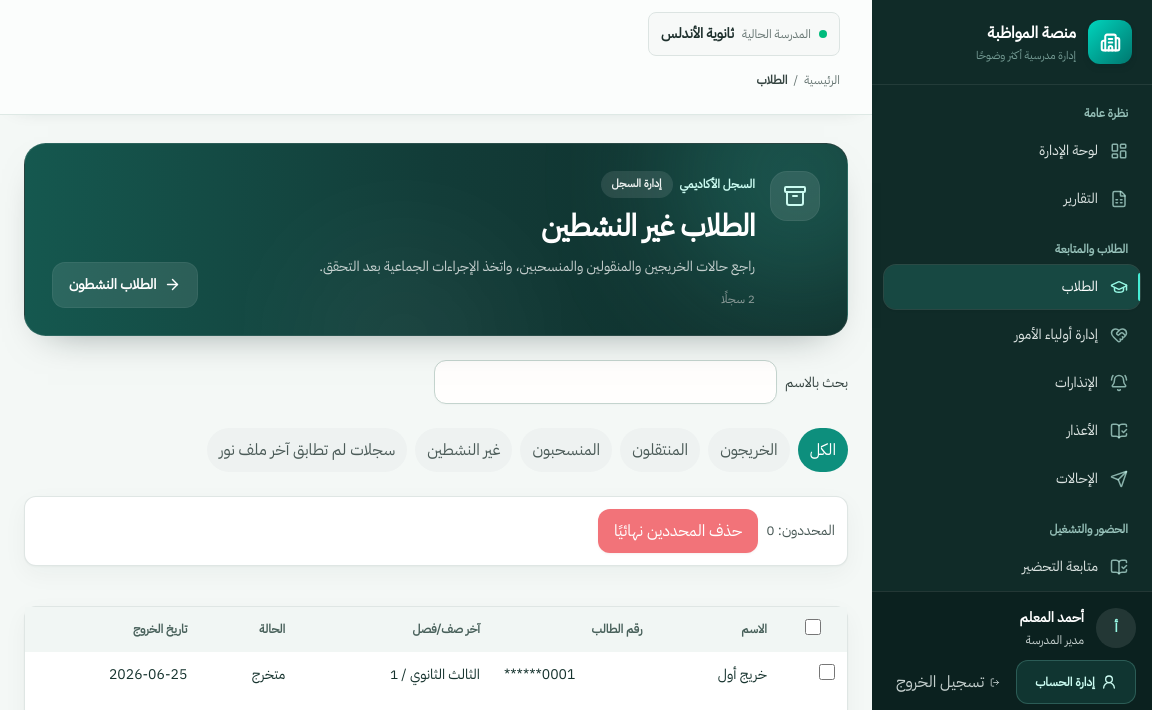
Test: InactiveStudentsPage › missing-from-noor filter offers classification actions
The width and height of the screenshot is (1152, 710).
Click the tab "سجلات لم تطابق آخر ملف نور": (307, 450) [207, 428, 407, 472]
(page scrolled)
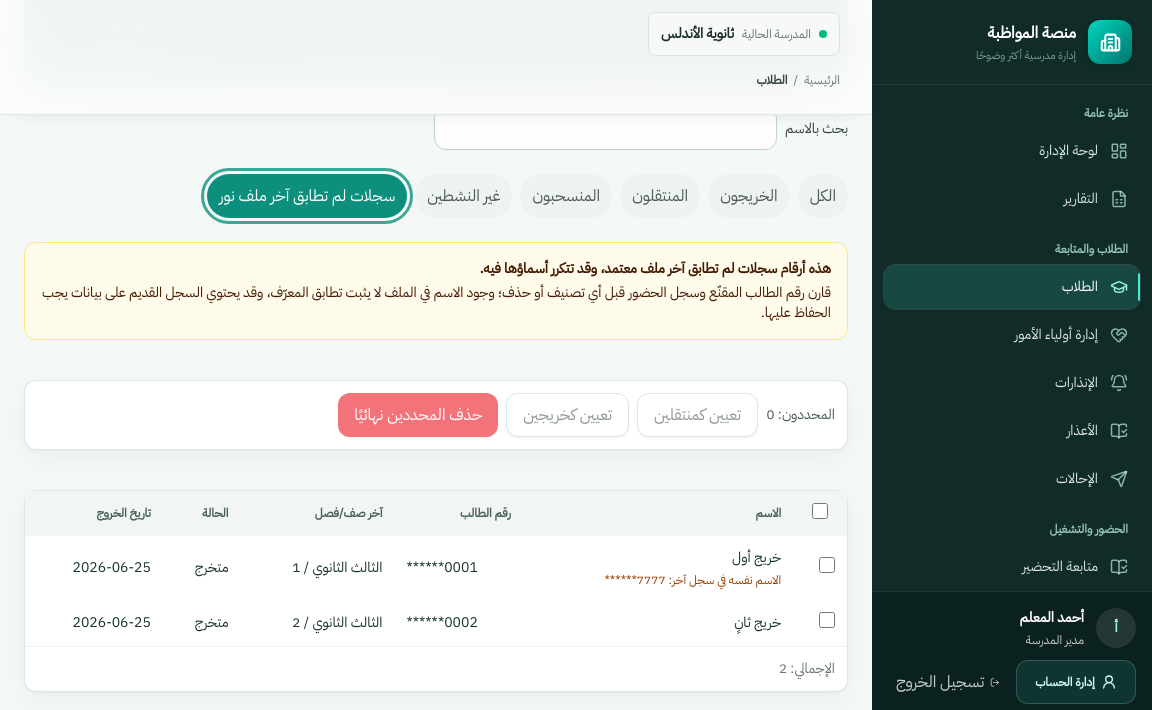
Expected: the button "حذف المحددين نهائيًا" is disabled, [338, 392, 498, 436]
Result: the button "تعيين كمنتقلين" is shown at [637, 392, 758, 436]
Result: the button "تعيين كخريجين" is shown at [506, 392, 629, 436]
Click the checkbox named "تحديد خريج أول ******0001": (827, 565) [819, 557, 835, 573]
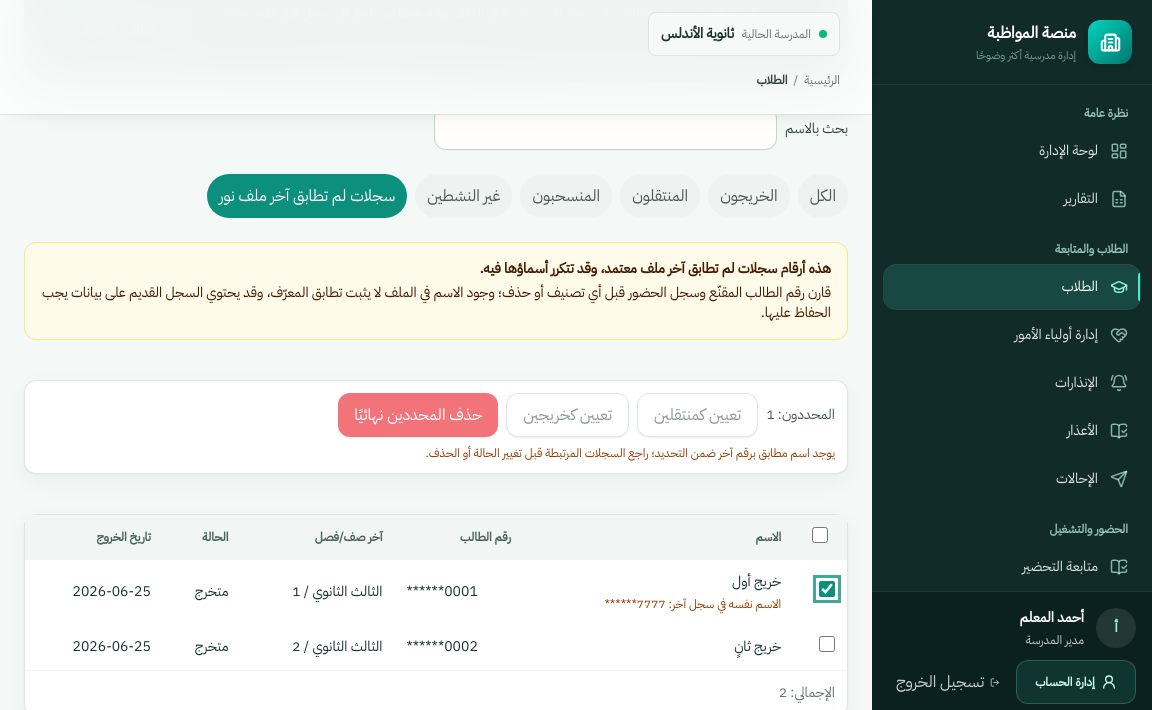
Expected: the button "حذف المحددين نهائيًا" is disabled, [338, 392, 498, 436]
Result: the text "يوجد اسم مطابق برقم آخر ضمن التحديد" is shown at [426, 444, 835, 462]
Click the checkbox named "تحديد خريج أول ******0001": (827, 589) [819, 581, 835, 597]
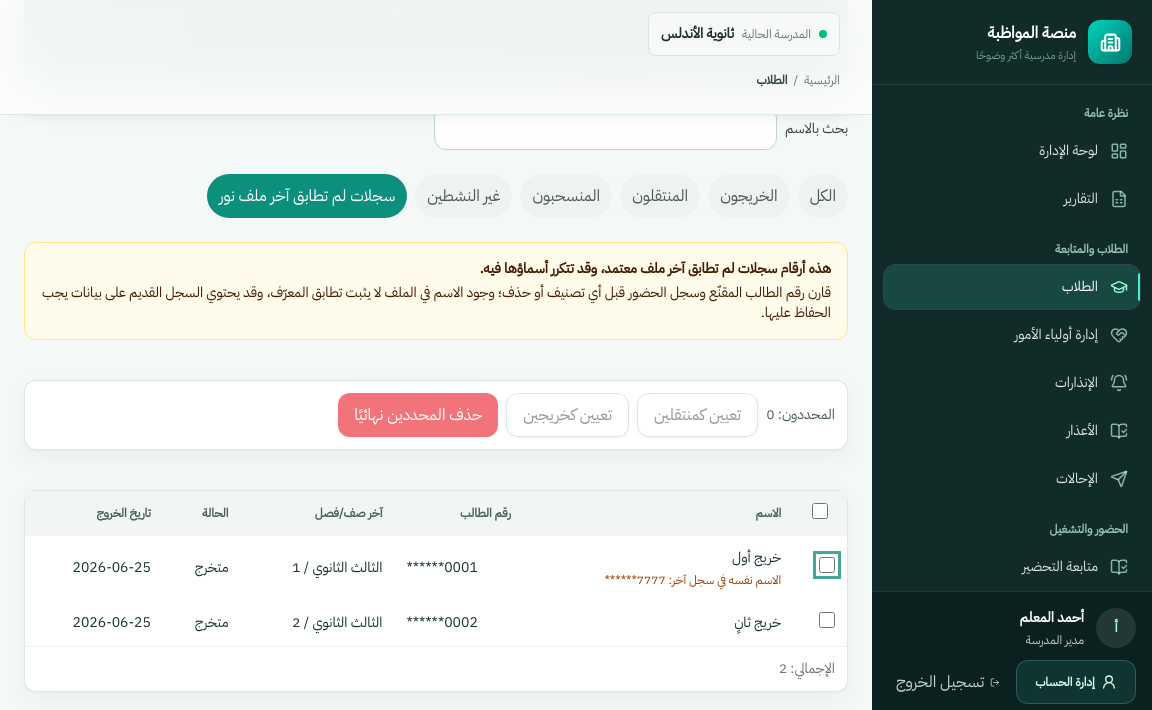
Click the checkbox named "تحديد خريج ثانٍ ******0002": (827, 620) [819, 612, 835, 628]
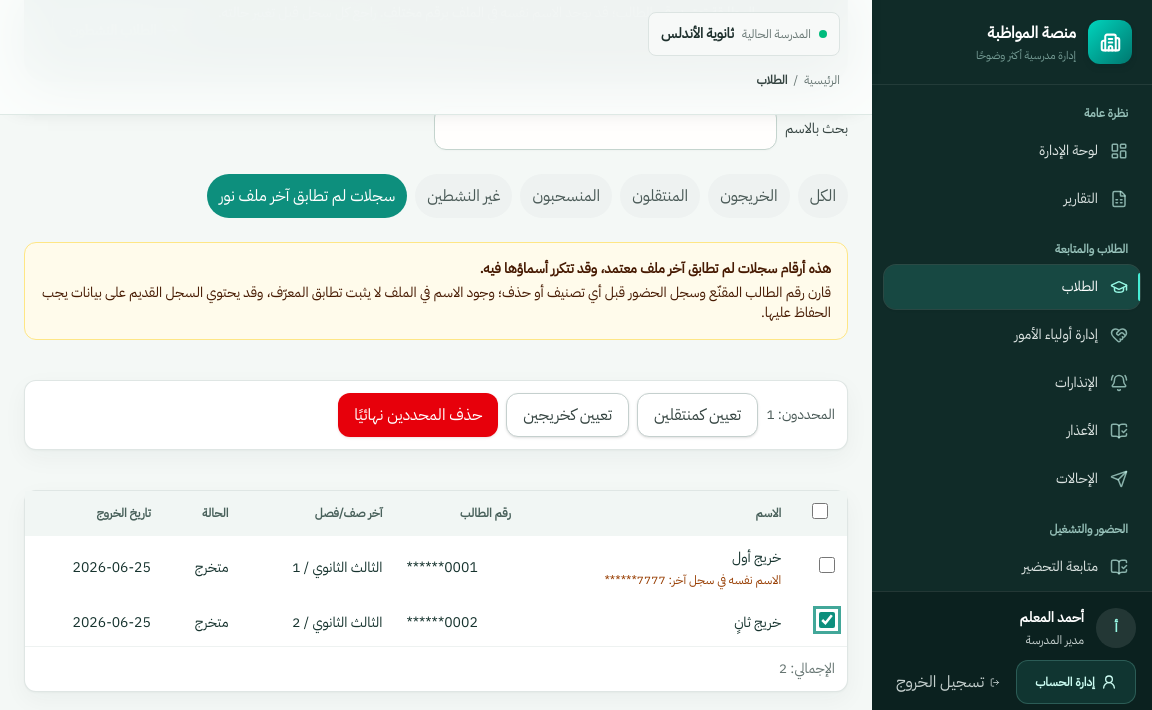
Result: the button "حذف المحددين نهائيًا" is enabled at [338, 392, 498, 436]
